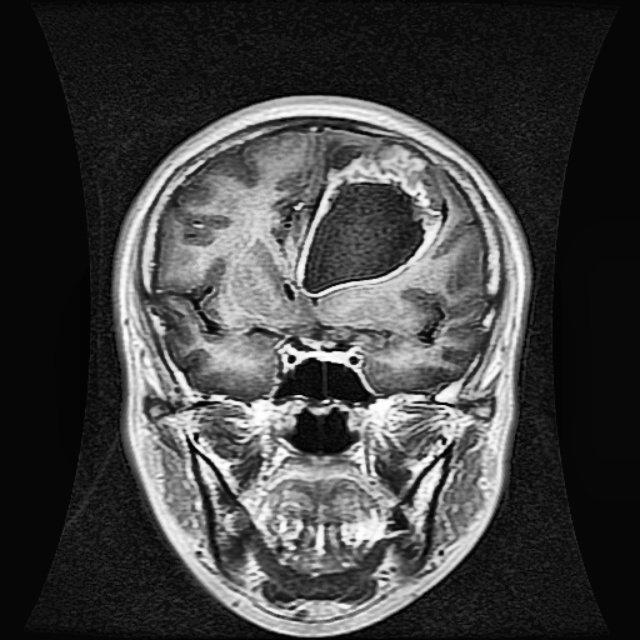Meningioma: (294, 142, 445, 298)
